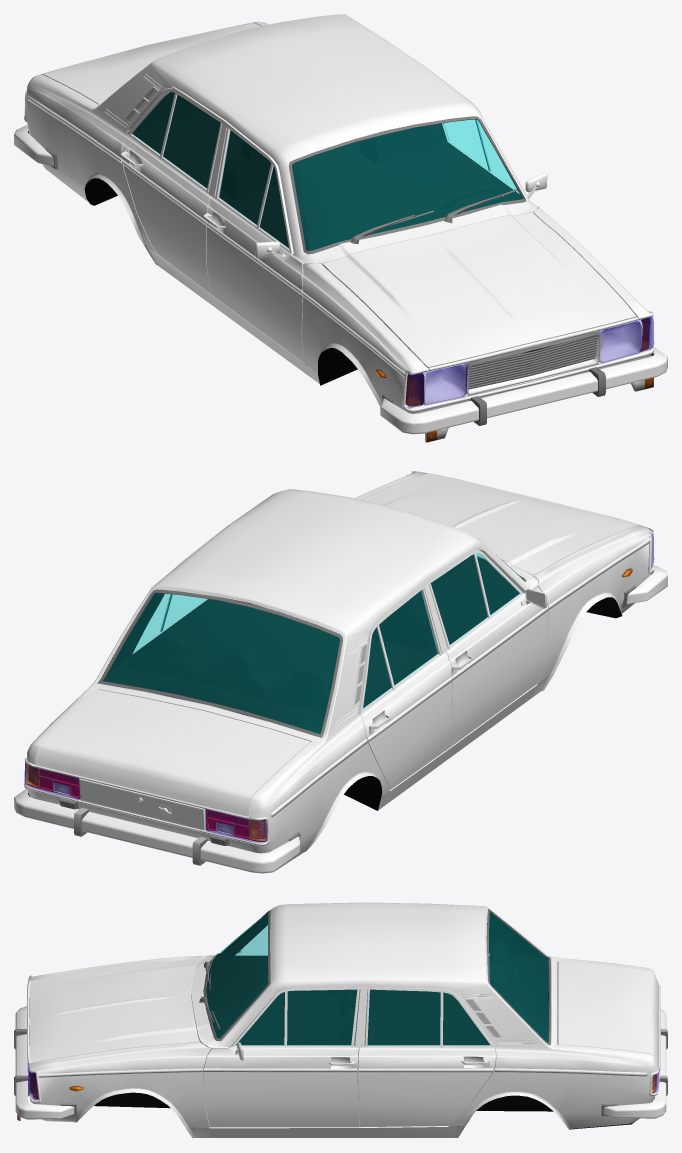
The model's file is peykan new.FBX.
The picture shows the model from 3 angles, top to bottom: view 1: azimuth 30°, elevation 25°; view 2: azimuth 150°, elevation 25°; view 3: azimuth 270°, elevation 25°; orthographic projection. The views are drawn at different scales.
Parts seen in each view (by area): view 1: Main; view 2: Main; view 3: Main.
Boxes of the visible parts, x1=… form: Main: x1=14, y1=14, x2=667, y2=442; Main: x1=14, y1=471, x2=667, y2=873; Main: x1=14, y1=902, x2=667, y2=1138.
Size of the model in its own units: 171 by 113 by 413.
2 materials, 1 textured.
